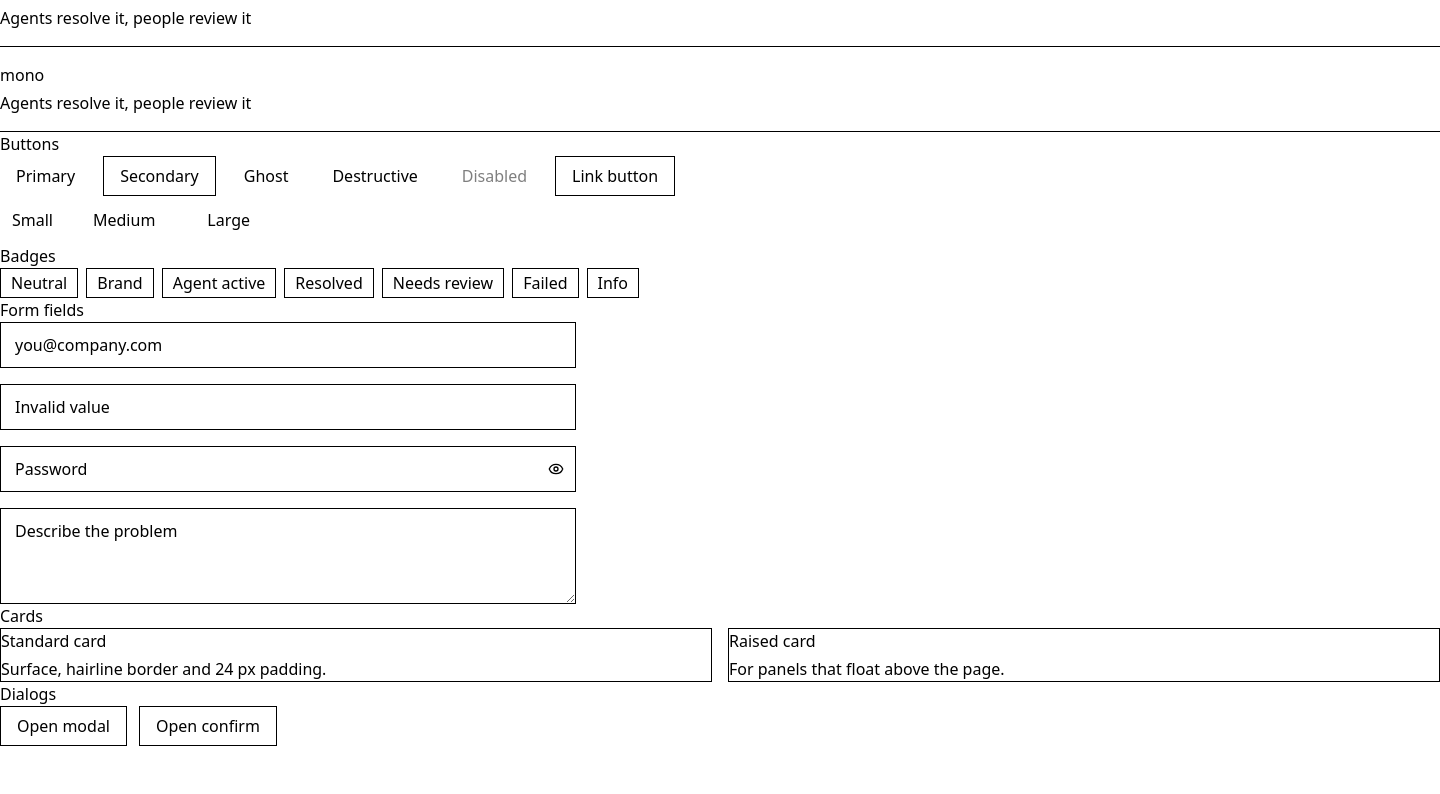
Test case: DesignShowcase › opens and closes the modal example
The image size is (1440, 794).
(page scrolled)
Click the button "Open modal" at (64, 726), box [0,706,127,746]
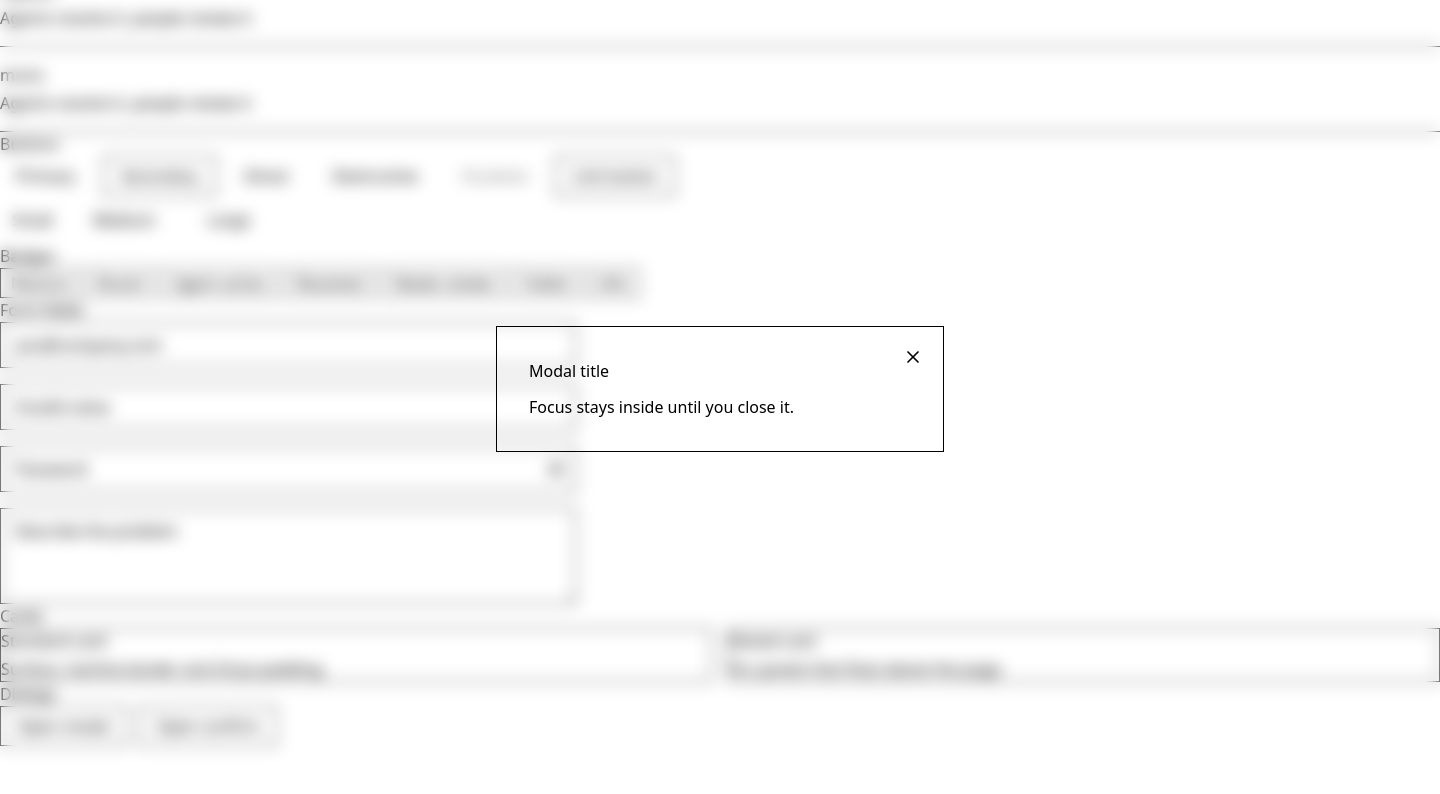
Check: the dialog "Modal title" is shown, box [496,326,944,452]
Press Escape
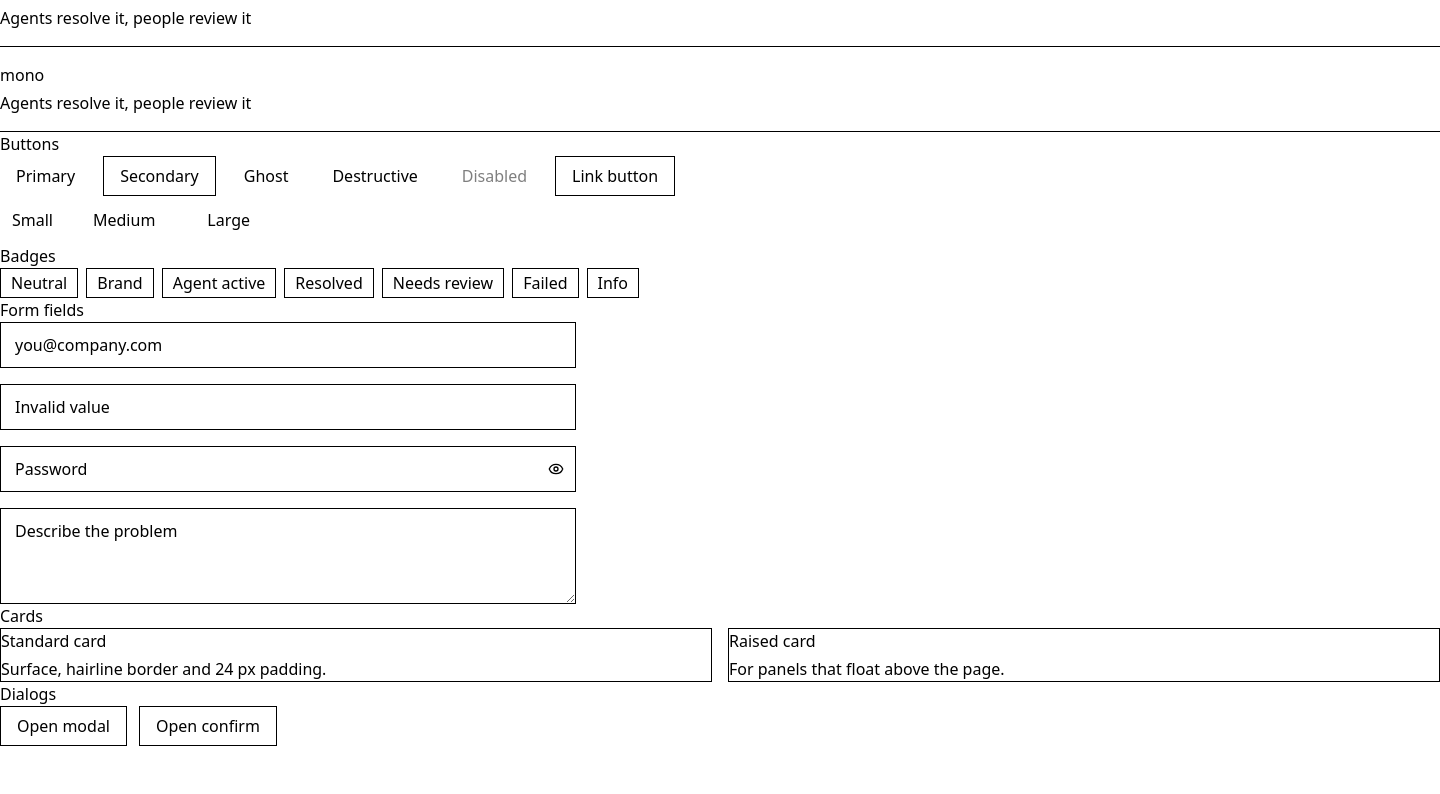
Check: the dialog is gone
